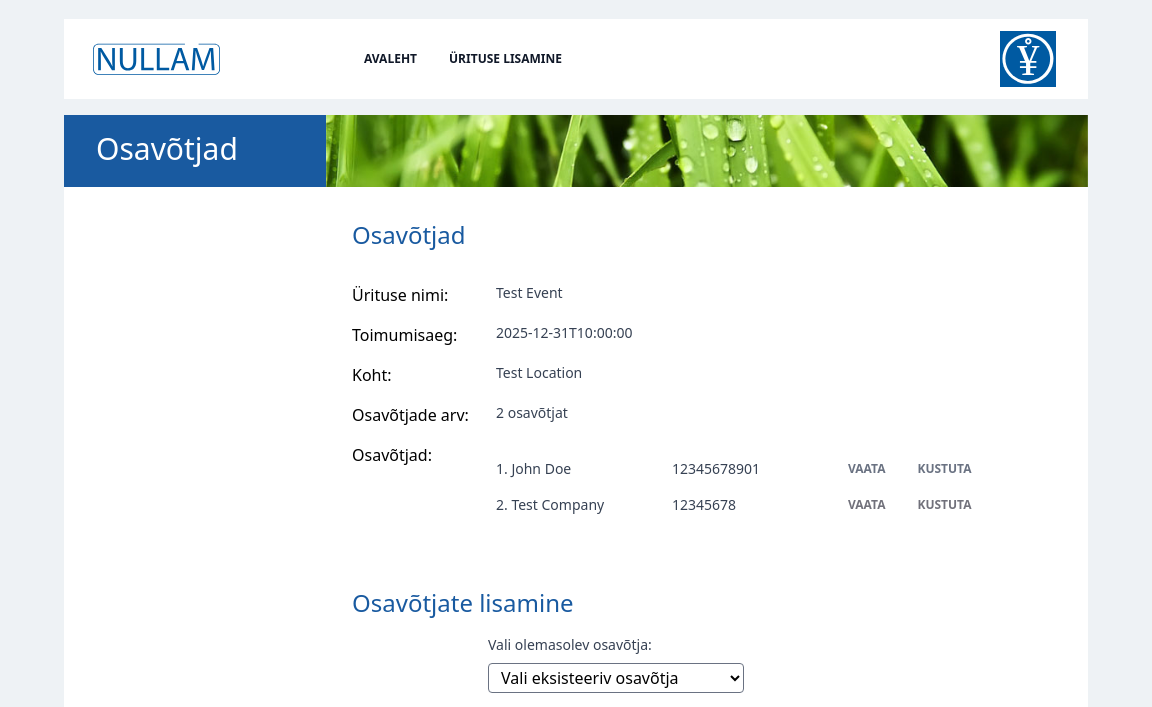
Scenario: Osavõtjate Interaktsioonide Testid › Olemasoleva Osavõtja Valimise Protsess › tühistab valiku kui rippmenüü nullitakse
The width and height of the screenshot is (1152, 707).
Select "Available Person (Eraisik)" in the dropdown labelled "Vali olemasolev osavõtja:" at (616,678), box left=488, top=663, right=744, bottom=693
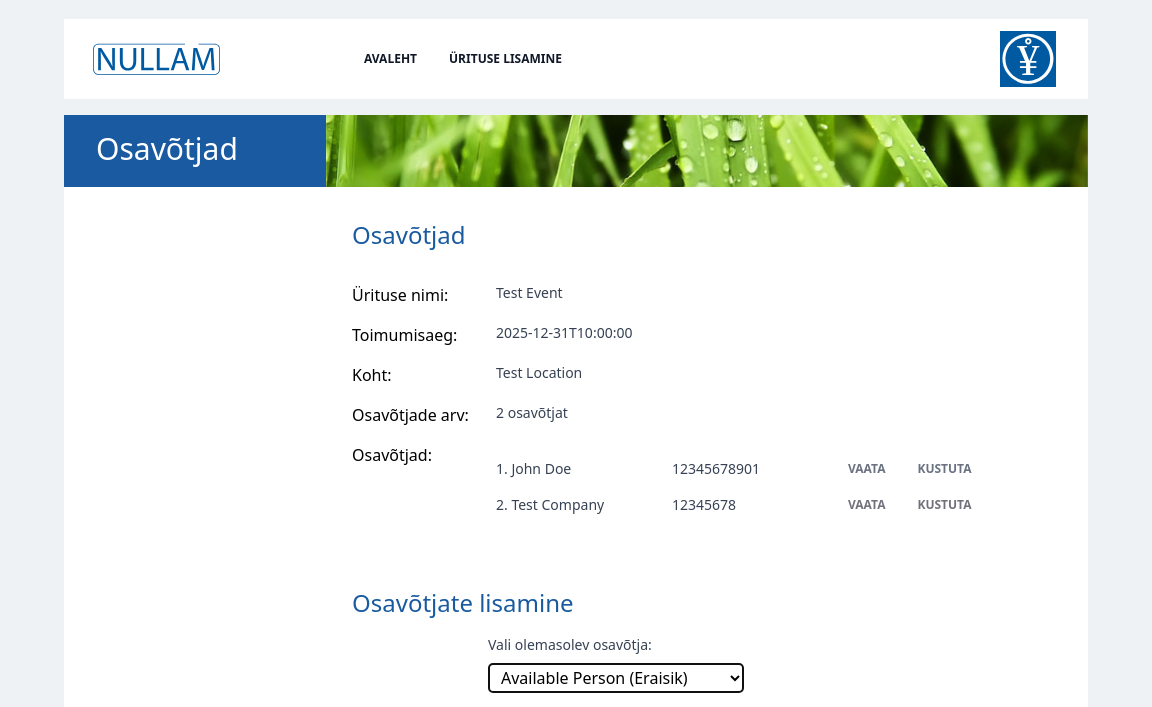
Select "Vali eksisteeriv osavõtja" in the dropdown labelled "Vali olemasolev osavõtja:" at (616,678), box left=488, top=663, right=744, bottom=693
(page scrolled)
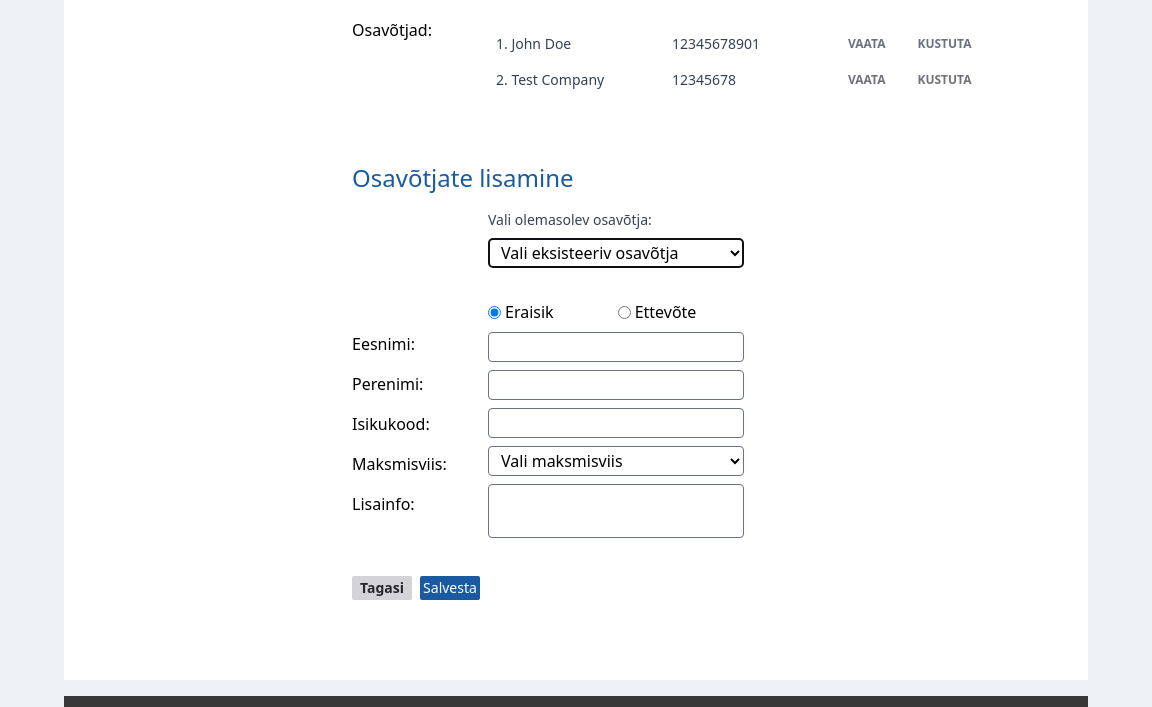
Now the 1st field is enabled, box left=488, top=332, right=744, bottom=362
